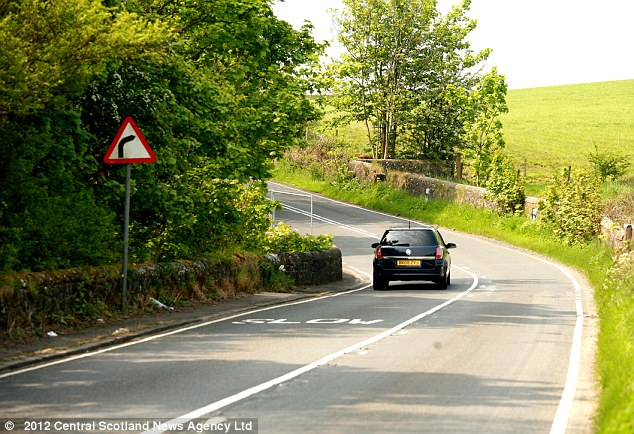Bend_to_right: (100, 114, 158, 166)
car: (365, 222, 459, 291)
